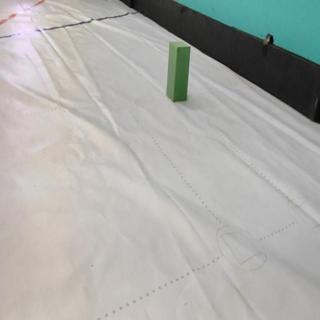greenbox: (165, 40, 193, 102)
